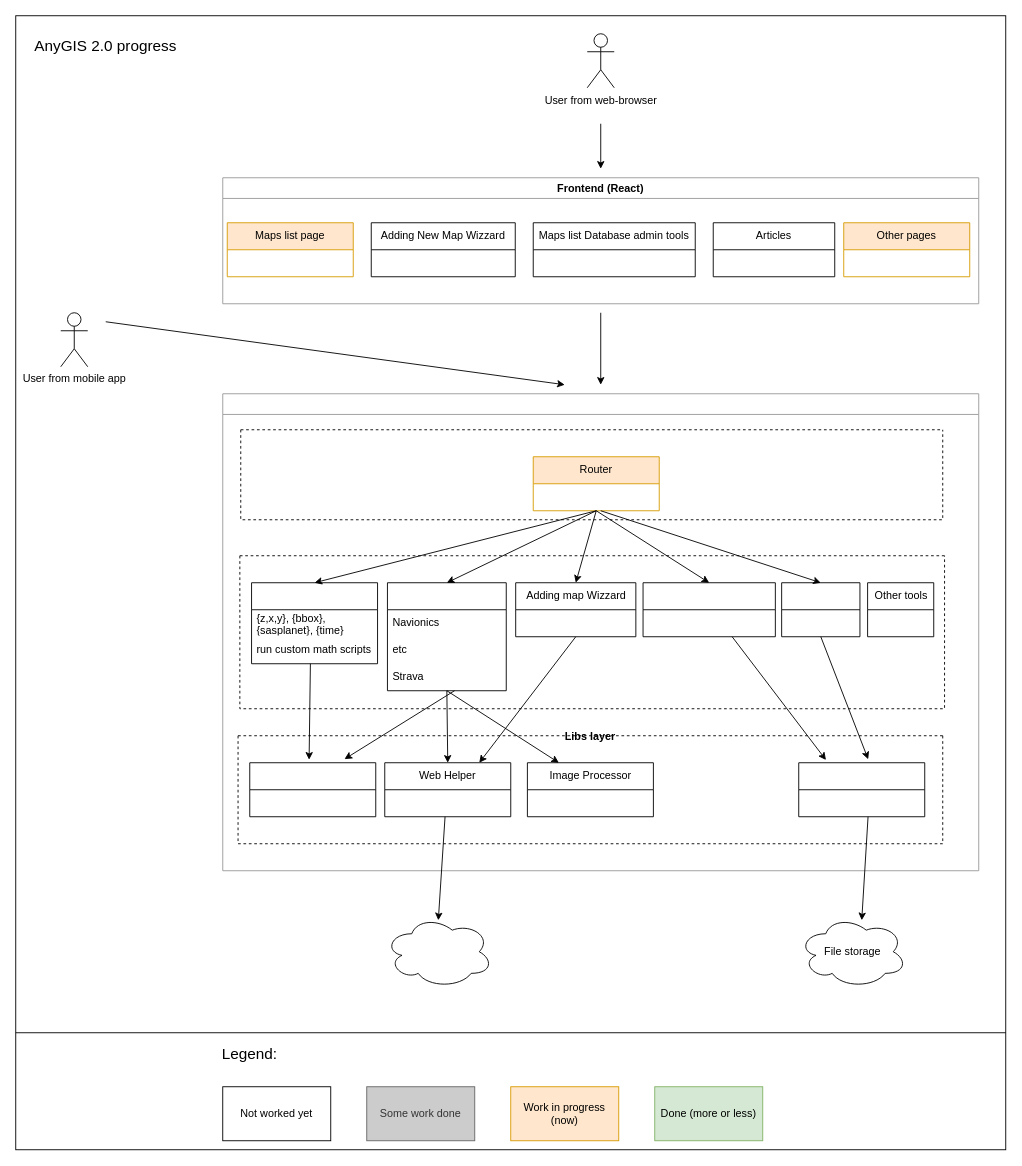
The diagram is 1022 pixels wide and 1166 high, and some of its shapes have lost their labels. Each missing label, with the box of its shape:
Backend (NodeJS + Express): (222, 393, 979, 871)
Custom scripts: (387, 582, 506, 691)
File generator: (781, 582, 860, 637)
File Storage & DB Helper: (798, 762, 925, 817)
Internet: (384, 915, 493, 988)
Maps DataBase manager: (642, 582, 775, 637)
Math & Geo calculator: (249, 762, 376, 817)
Routing layer: (240, 429, 943, 520)
Tile number processor: (251, 582, 378, 664)
Use cases layer: (239, 555, 945, 709)
